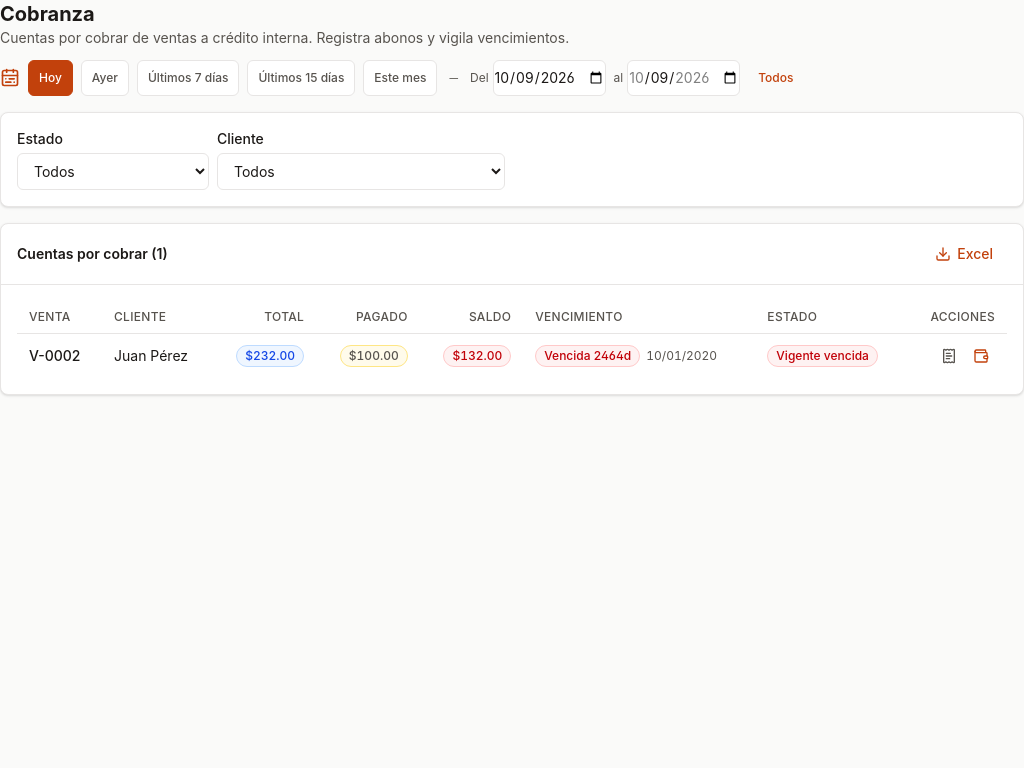
Test: CobranzaPage (profundización) › lista los abonos previos con forma desconocida en el estado de cuenta
Click the button named "Estado de cuenta" at (949, 356), box [935, 342, 963, 370]
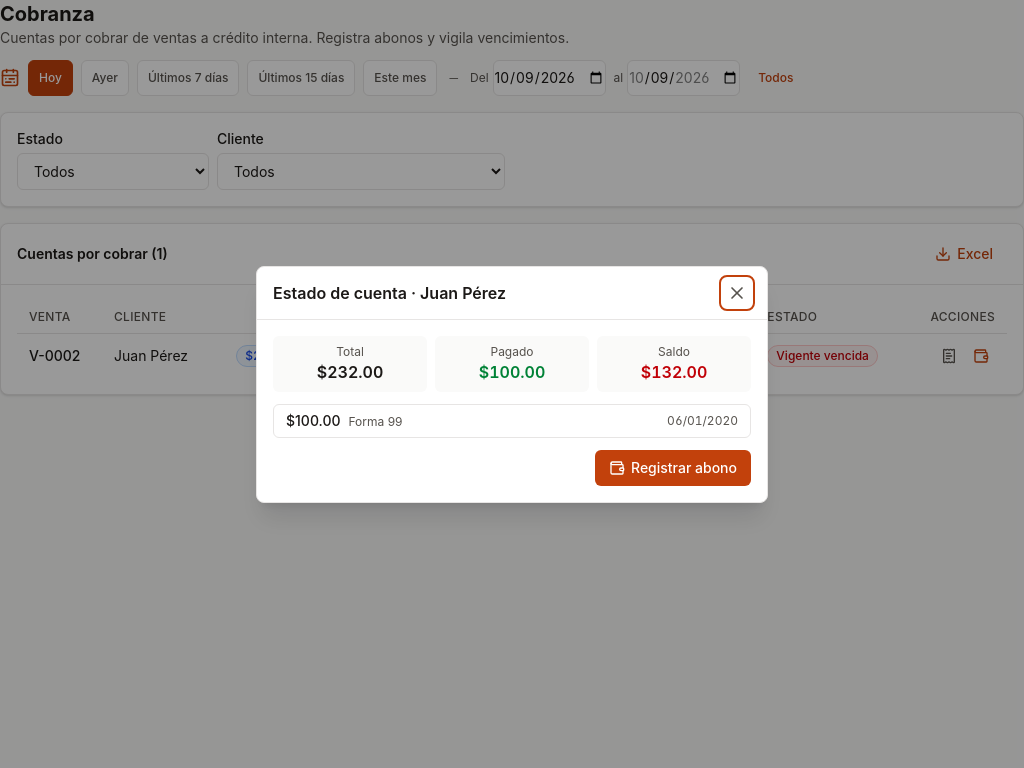
Result: the text "Forma 99" is shown at [348, 414, 402, 428]
Result: the button "Registrar abono" is shown at [595, 450, 751, 486]
